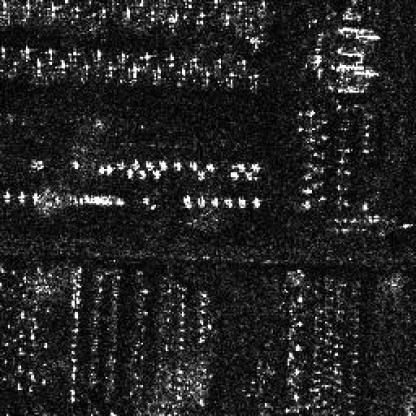airplane: (127, 63, 141, 83), (245, 73, 260, 89), (164, 10, 180, 24), (174, 67, 188, 83), (151, 66, 166, 80), (47, 3, 59, 20), (93, 46, 104, 64), (200, 67, 214, 81), (223, 72, 237, 86), (213, 55, 226, 70), (81, 62, 93, 78), (96, 6, 109, 20), (230, 0, 244, 13), (57, 57, 70, 71), (138, 49, 151, 63), (162, 52, 176, 65), (68, 47, 80, 62), (20, 2, 32, 16), (187, 56, 201, 68), (237, 58, 249, 72), (68, 159, 82, 171), (0, 2, 10, 18), (46, 45, 56, 61), (19, 46, 31, 58), (148, 8, 159, 21), (72, 6, 82, 20), (196, 10, 206, 24), (14, 188, 24, 202), (104, 64, 115, 76), (1, 190, 12, 202), (250, 197, 262, 208), (221, 13, 231, 26), (118, 51, 128, 64), (182, 195, 193, 206), (124, 4, 134, 16), (211, 0, 226, 8), (8, 60, 18, 72), (195, 195, 205, 206), (30, 190, 38, 203), (237, 198, 247, 208), (104, 164, 112, 176), (227, 170, 239, 178), (188, 159, 197, 169), (223, 198, 232, 208), (125, 167, 132, 179), (236, 162, 245, 171), (249, 162, 258, 171), (184, 0, 194, 8), (36, 57, 44, 67), (98, 166, 106, 176), (115, 161, 125, 169), (138, 169, 146, 179), (144, 159, 152, 169), (158, 158, 166, 168), (205, 161, 213, 171), (244, 172, 254, 180), (210, 196, 218, 206), (81, 0, 94, 6), (0, 45, 6, 58), (151, 169, 159, 177), (172, 161, 180, 169), (112, 0, 122, 6), (134, 0, 146, 5), (197, 169, 203, 179), (132, 160, 138, 168)
